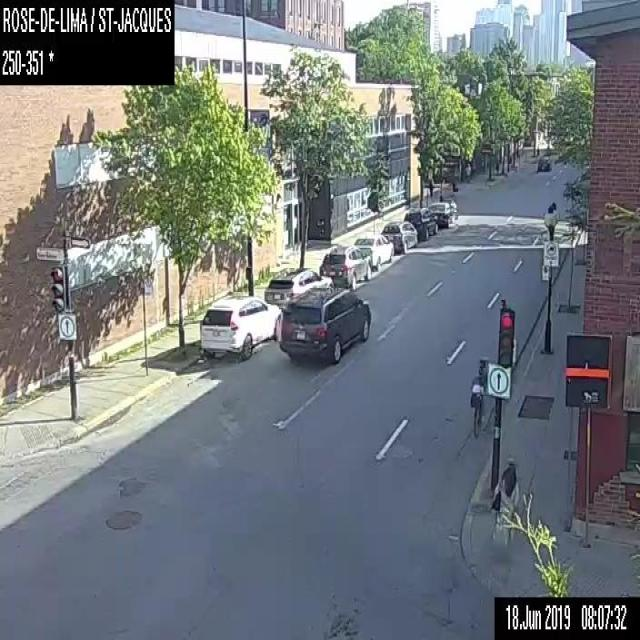cyclist: (467, 356, 488, 441)
pedestrian: (491, 460, 516, 537)
vehicle: (279, 286, 372, 364), (197, 295, 280, 357), (266, 267, 334, 304), (318, 245, 374, 289), (353, 231, 393, 269), (380, 220, 417, 252), (403, 209, 438, 238), (427, 201, 457, 228), (536, 155, 552, 171)
